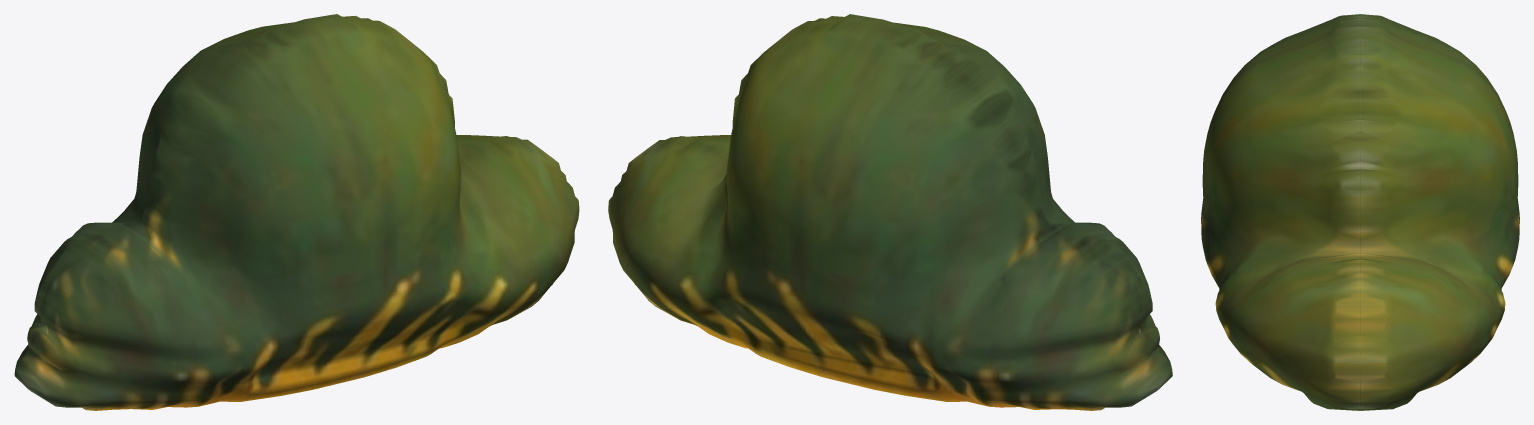
File: 01_rocks_and_bushes_r03_c16.glb
3 views of the same model, side by side, from view 1: azimuth 30°, elevation 25°; view 2: azimuth 150°, elevation 25°; view 3: azimuth 270°, elevation 25° (orthographic). The views are drawn at different scales.
Visible parts, largest first — view 1: 01_rocks_and_bushes_r03_c16; view 2: 01_rocks_and_bushes_r03_c16; view 3: 01_rocks_and_bushes_r03_c16.
Boxes of the visible parts, x1,y1,x2,y2 form: 01_rocks_and_bushes_r03_c16: [14, 14, 579, 410]; 01_rocks_and_bushes_r03_c16: [608, 14, 1172, 410]; 01_rocks_and_bushes_r03_c16: [1201, 14, 1519, 410].
Size of the model in its own units: 1.67 by 0.95 by 0.9169.
Materials: 1 (1 with a texture image).
